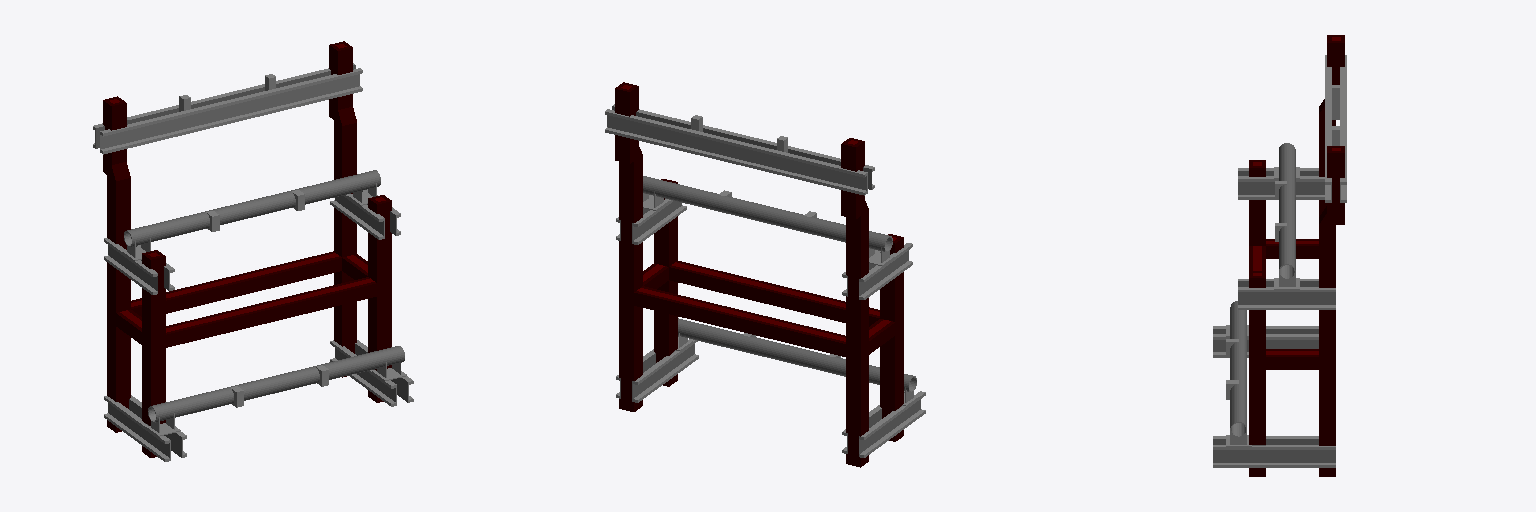
File: rmc_support_vertical_to_steep.obj
The picture shows the model from 3 angles: view 1: azimuth 30°, elevation 25°; view 2: azimuth 150°, elevation 25°; view 3: azimuth 270°, elevation 25°; orthographic projection.
Bounding box in the file's own units: 3.55 × 4.22 × 1.58.